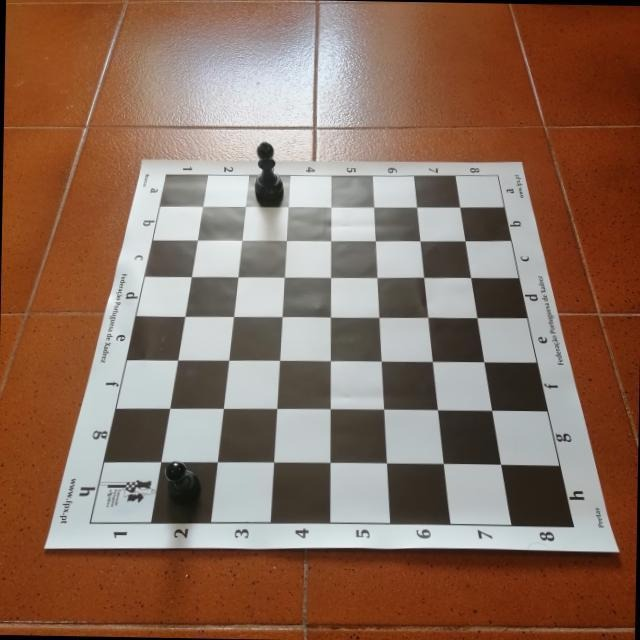black-bishop: (253, 140, 285, 202)
black-pawn: (162, 460, 201, 504)
